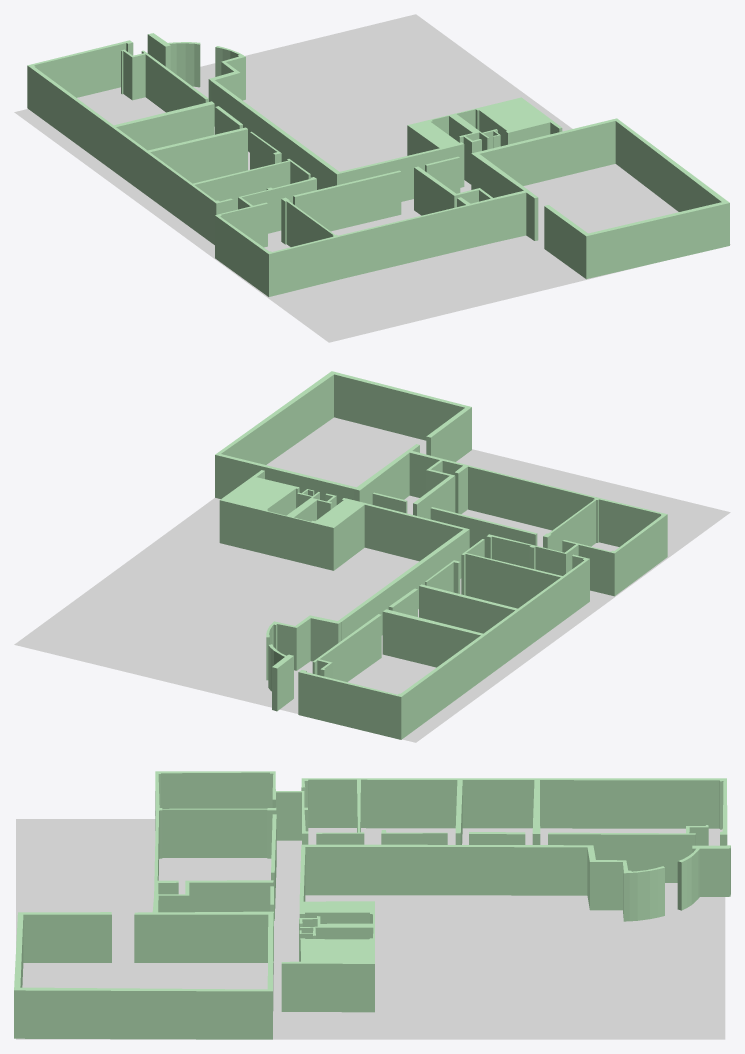
File: New - First.fbx
The picture shows the model from 3 angles, top to bottom: view 1: azimuth 30°, elevation 25°; view 2: azimuth 150°, elevation 25°; view 3: azimuth 270°, elevation 25°; orthographic projection. The views are drawn at different scales.
Parts seen in each view (by area): view 1: Building 2-1 WallMap, Plane; view 2: Building 2-1 WallMap, Plane; view 3: Building 2-1 WallMap, Plane.
Part boxes in pixels (x1,y1,x2,y2): Building 2-1 WallMap: [27, 33, 729, 296]; Plane: [14, 14, 730, 342]; Building 2-1 WallMap: [215, 371, 667, 739]; Plane: [14, 417, 730, 742]; Building 2-1 WallMap: [14, 771, 730, 1039]; Plane: [16, 819, 725, 1039].
Size of the model in its own units: 4900 by 500 by 6722.
